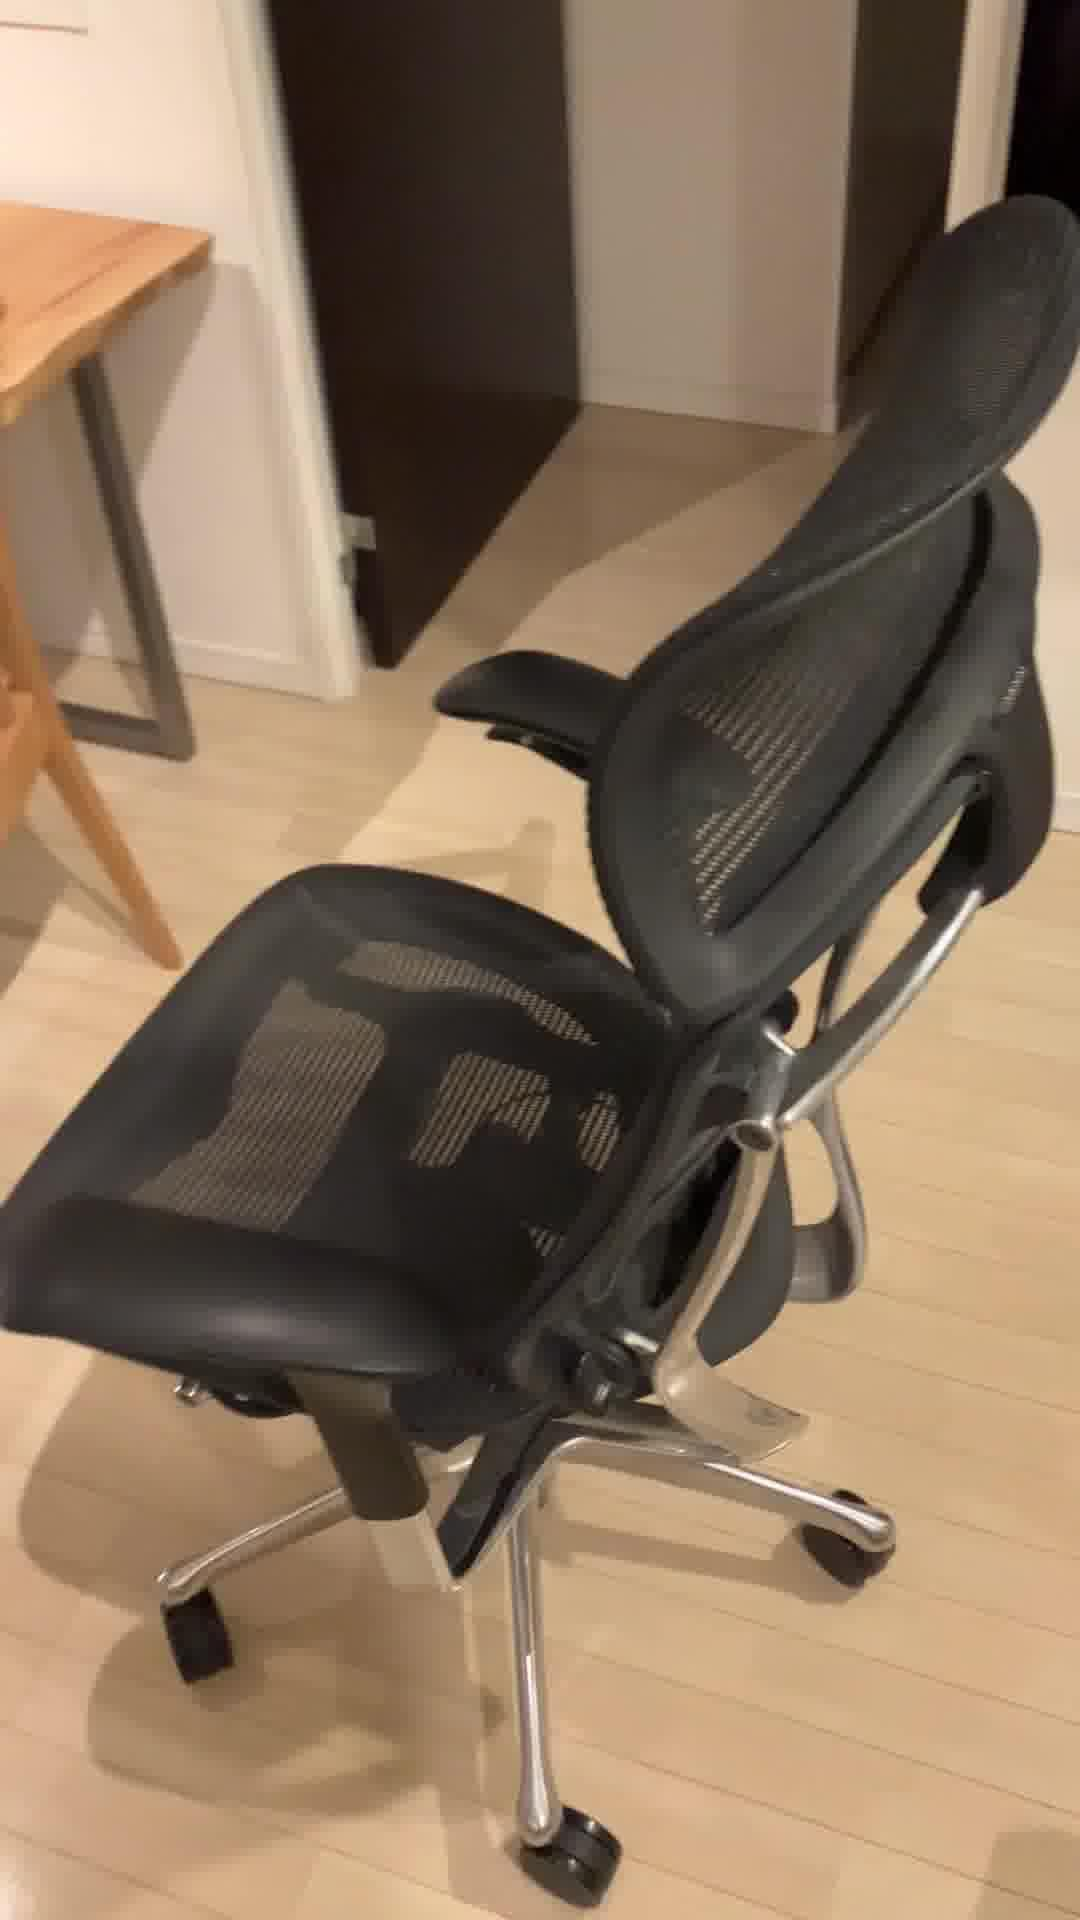okamura-contessa: (0, 193, 1080, 1905)
